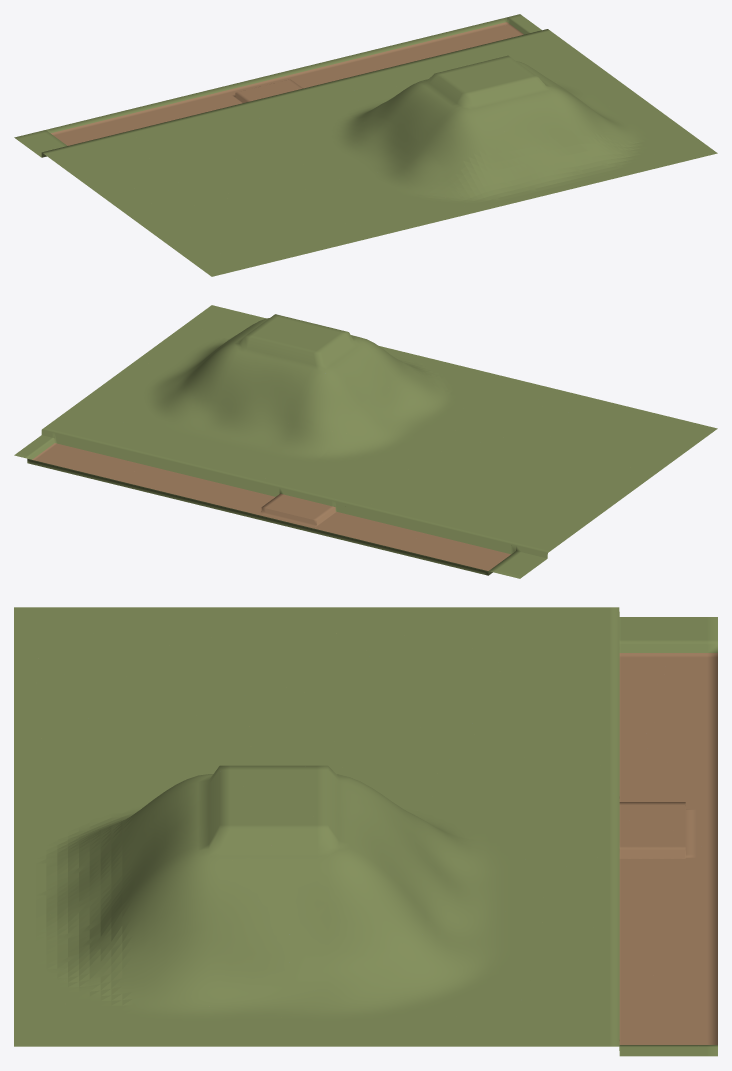
Rendered from HK_Terrain_Castle.lod.glb.
3 views of the same model, one above another, from view 1: azimuth 30°, elevation 25°; view 2: azimuth 150°, elevation 25°; view 3: azimuth 270°, elevation 25° (orthographic). The views are drawn at different scales.
Visible parts, largest first — view 1: HK_Terrain_Castle; view 2: HK_Terrain_Castle; view 3: HK_Terrain_Castle.
Part boxes in pixels (bbox=[...]): HK_Terrain_Castle: bbox=[14, 14, 717, 276]; HK_Terrain_Castle: bbox=[14, 305, 717, 578]; HK_Terrain_Castle: bbox=[14, 607, 717, 1056].
Size of the model in its own units: 384 by 52.96 by 260.
